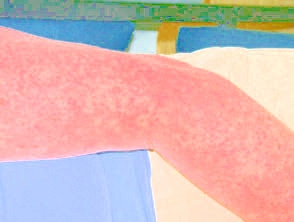SJS-TEN: (0, 9, 294, 222)
